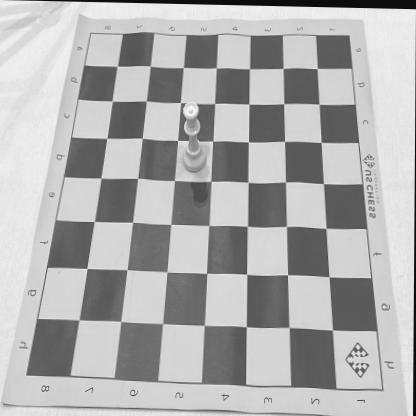white-queen: (182, 100, 208, 173)
